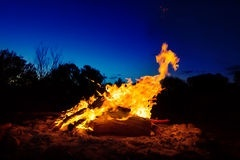fire: (53, 34, 177, 130)
